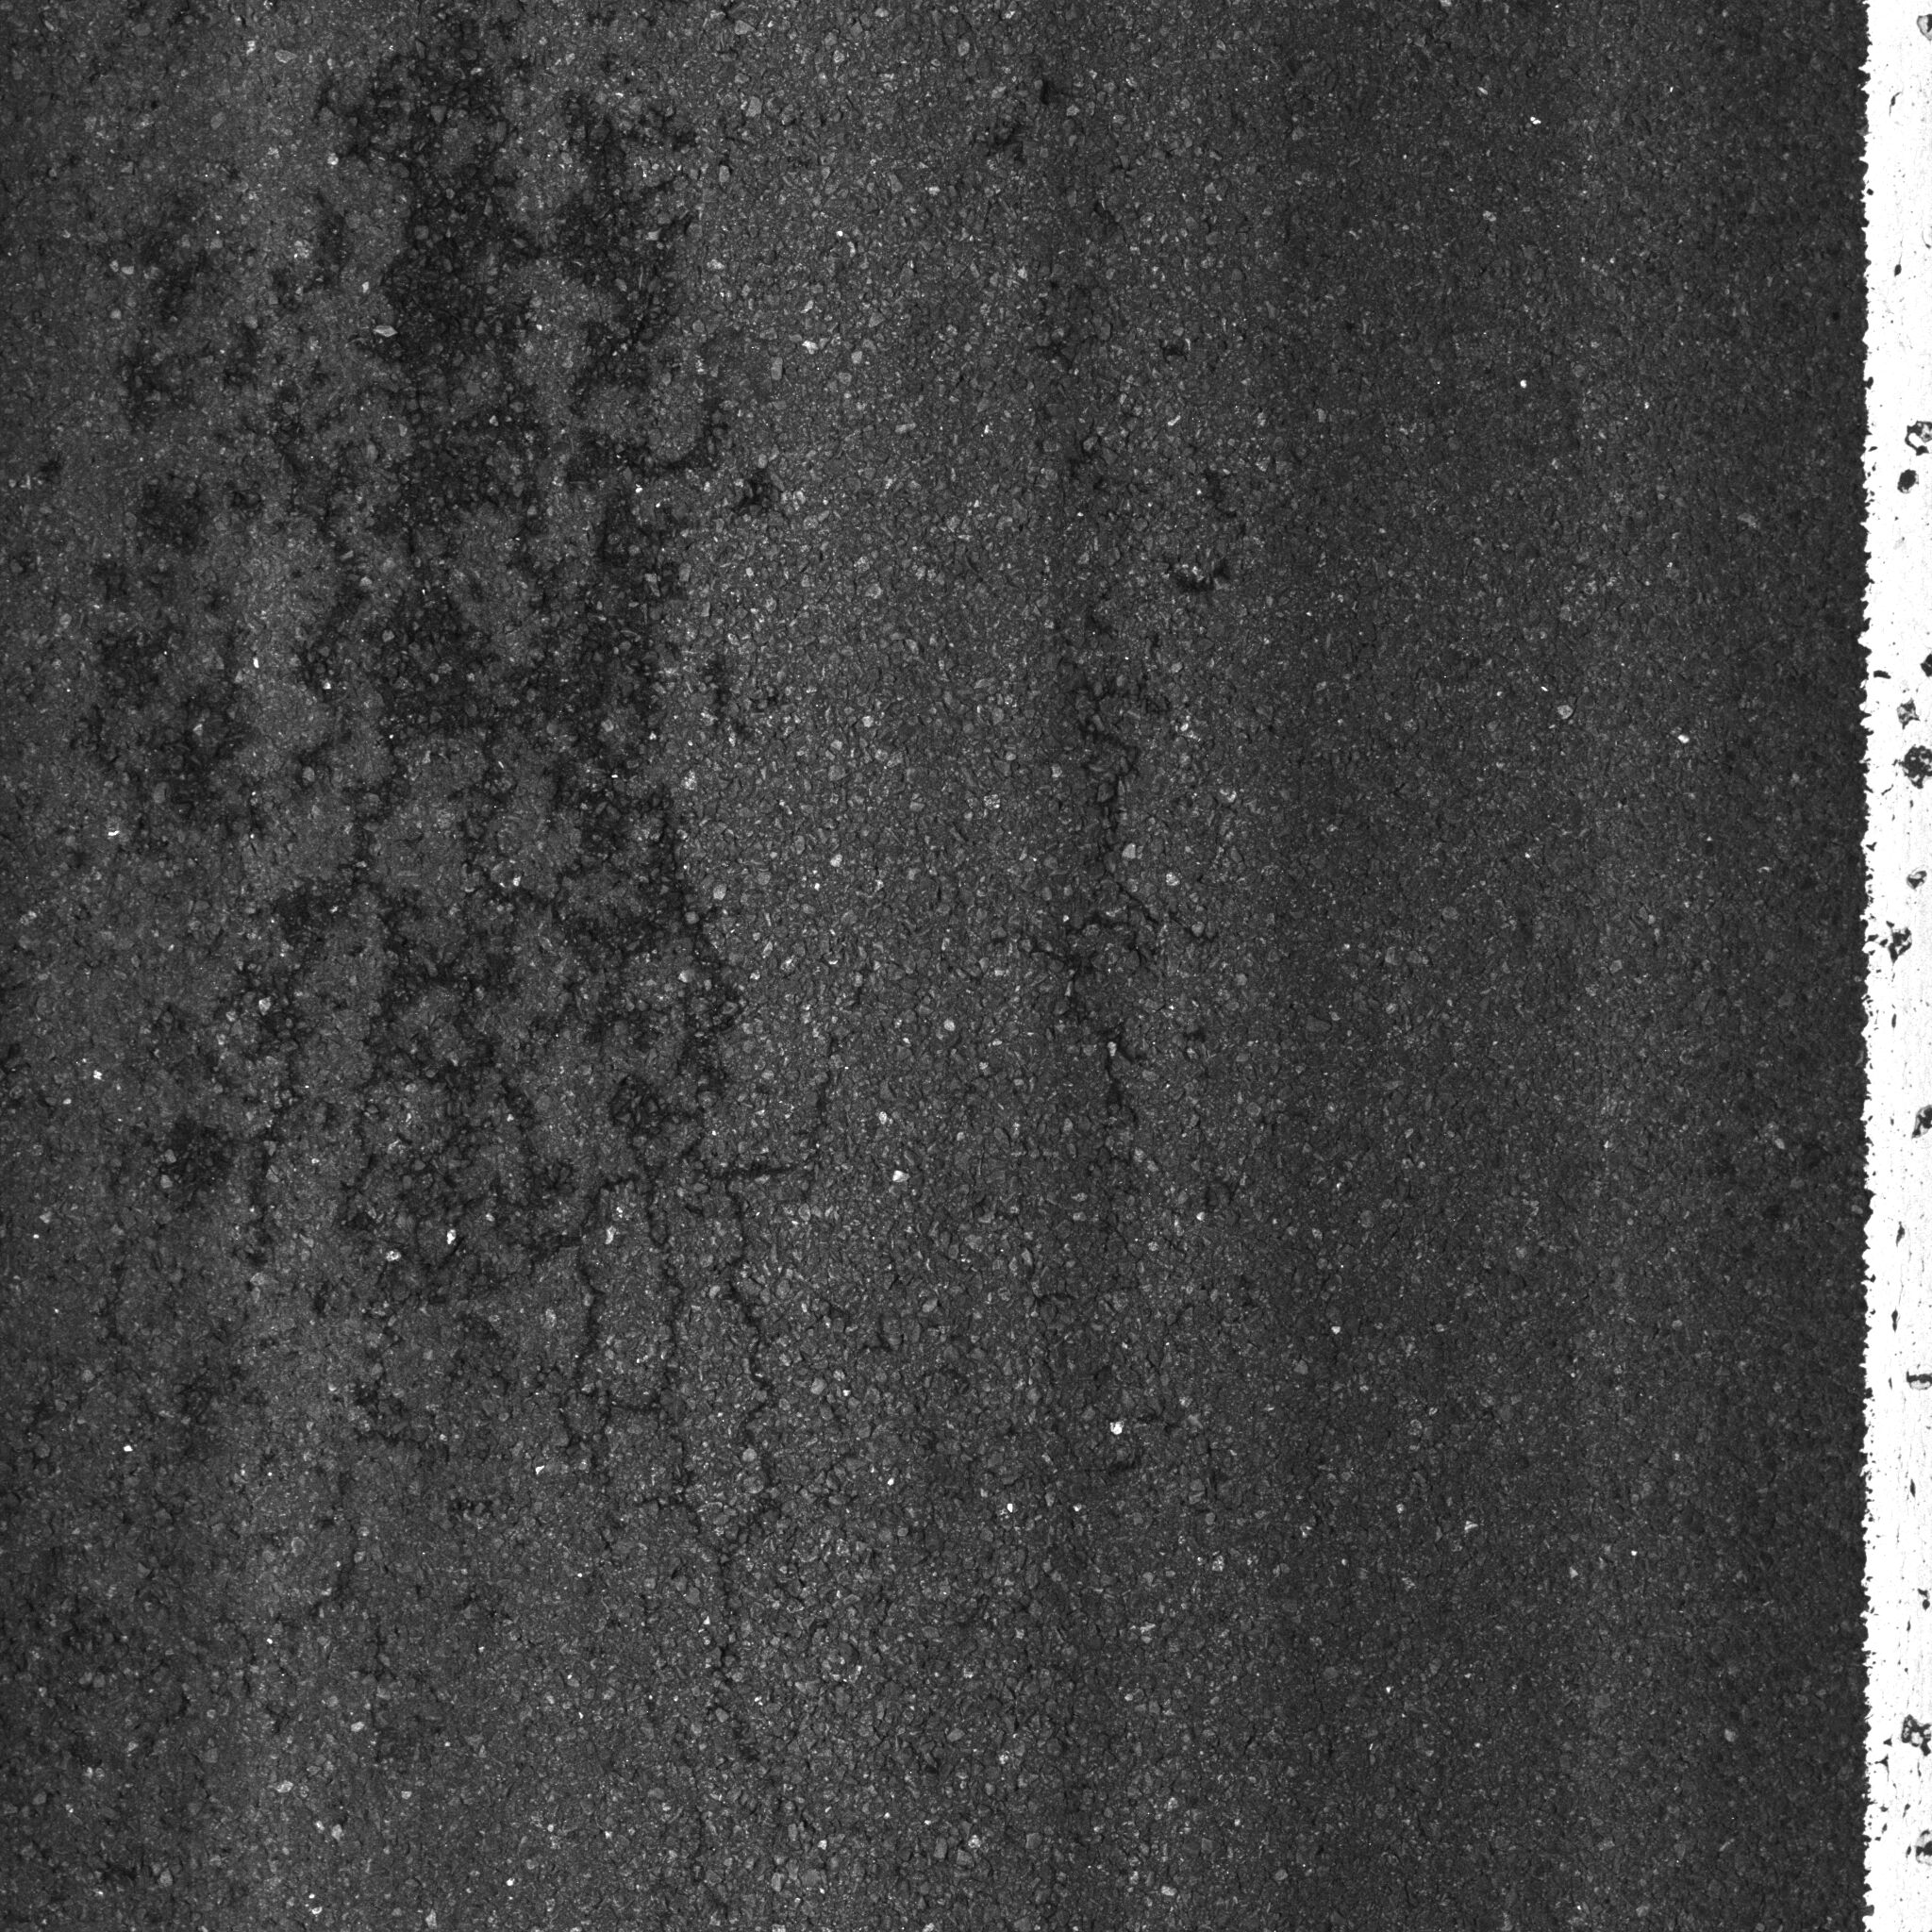alligator: (80, 2, 890, 1744)
